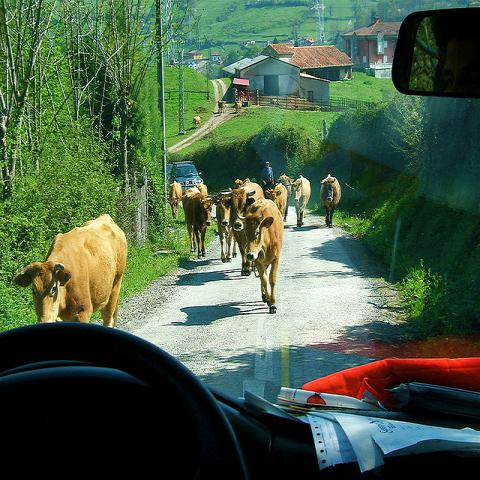car: (0, 321, 471, 479), (168, 160, 203, 193)
